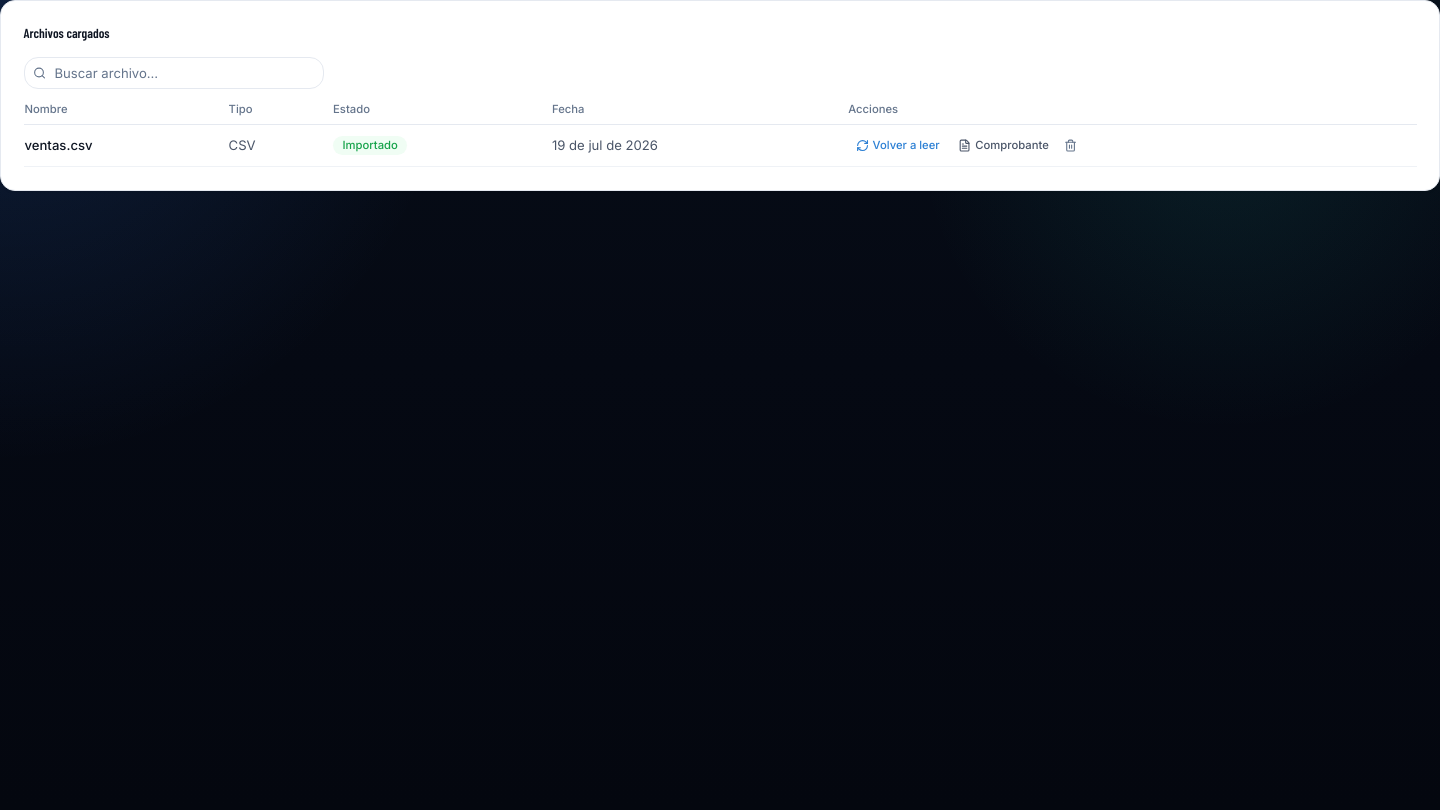
Test: FileListSection — deshacer relectura (F9b) › respuesta con not_reverted_entities no vacío renderiza el aviso
Click the button titled "Volver a leer este archivo".
click(898, 146)  # box [848,134,947,157]
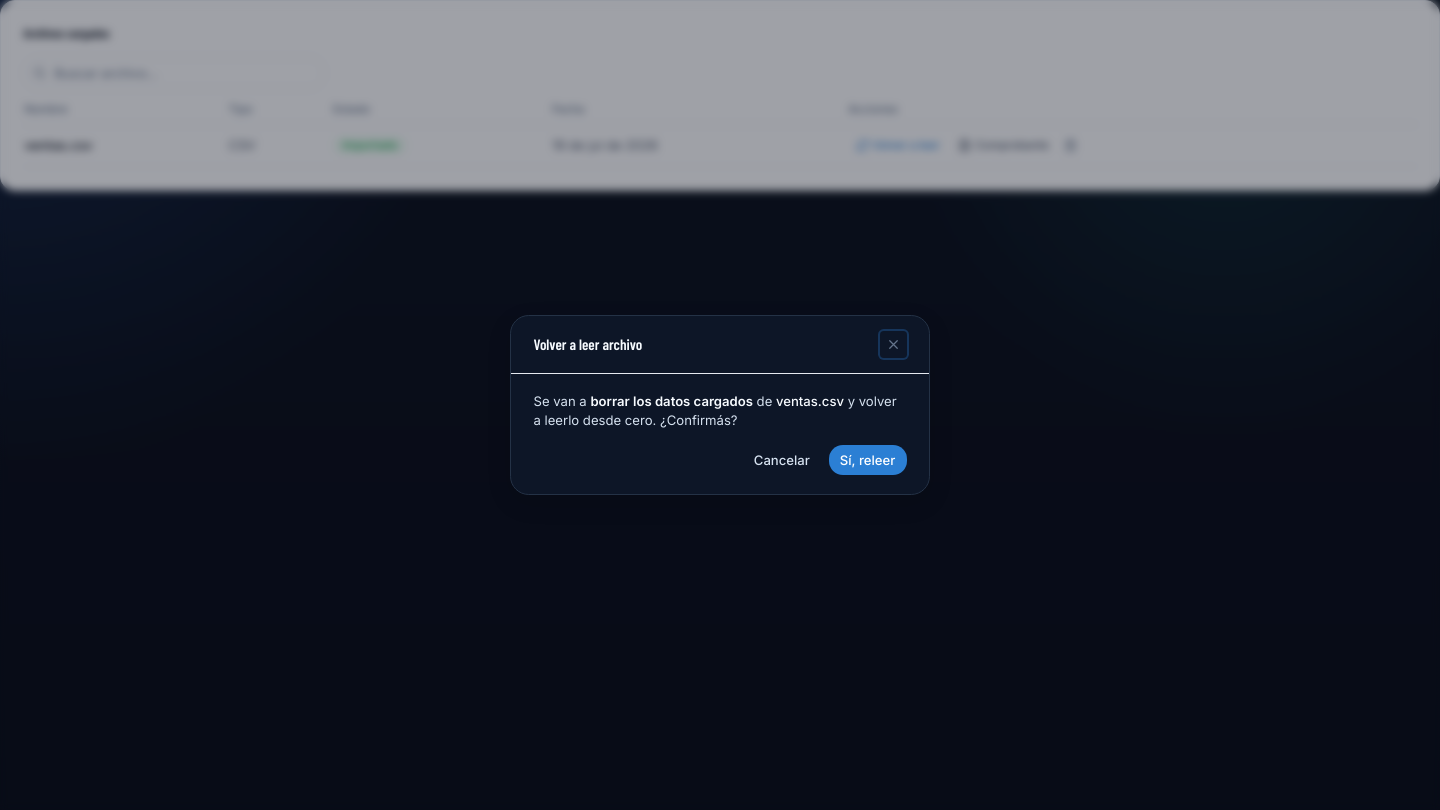
Expected: the button "Sí, releer" is shown
Click the button "Sí, releer".
click(868, 460)  # box [829,445,906,475]
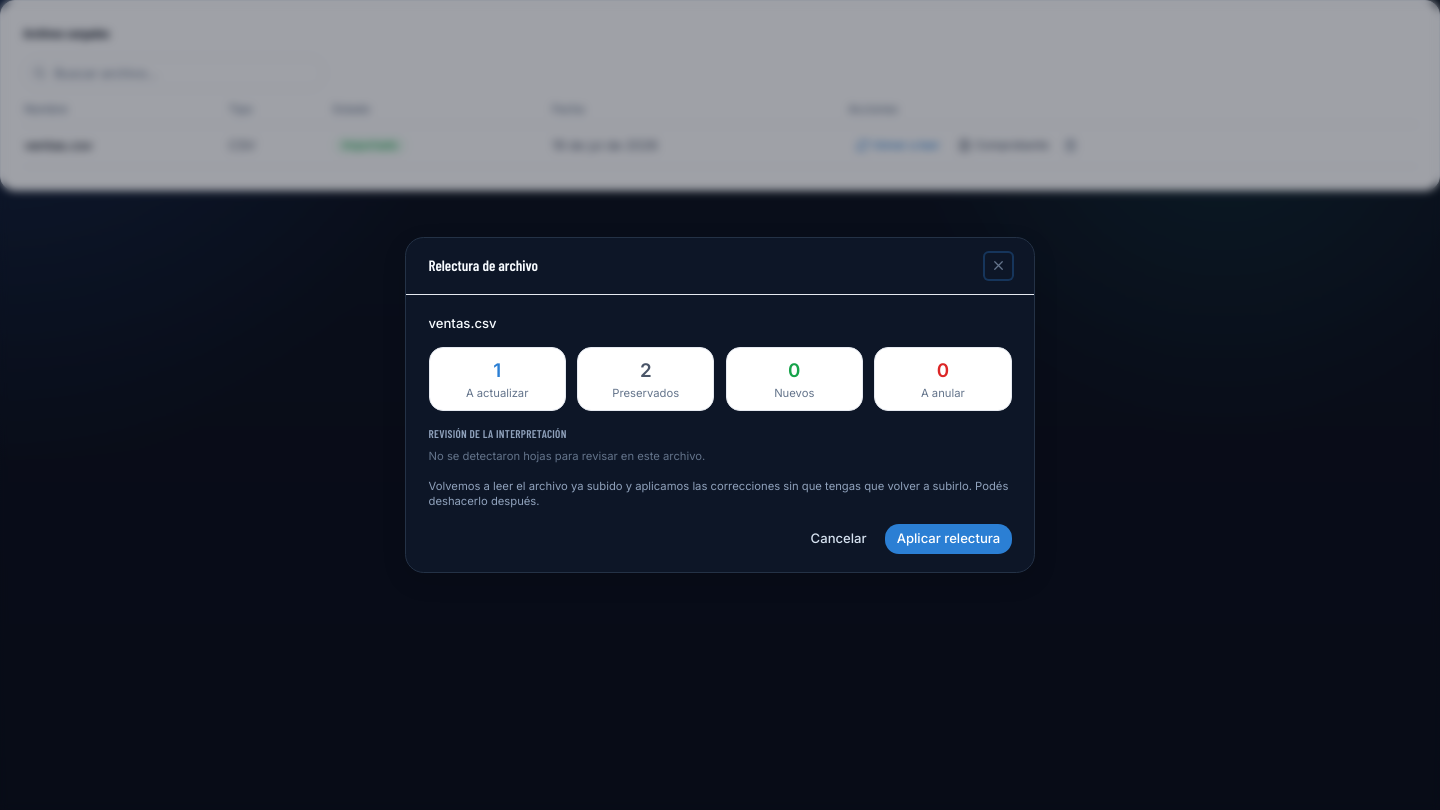
Expected: the button "Aplicar relectura" is shown
Click the button "Aplicar relectura".
click(948, 539)  # box [885,524,1012,554]
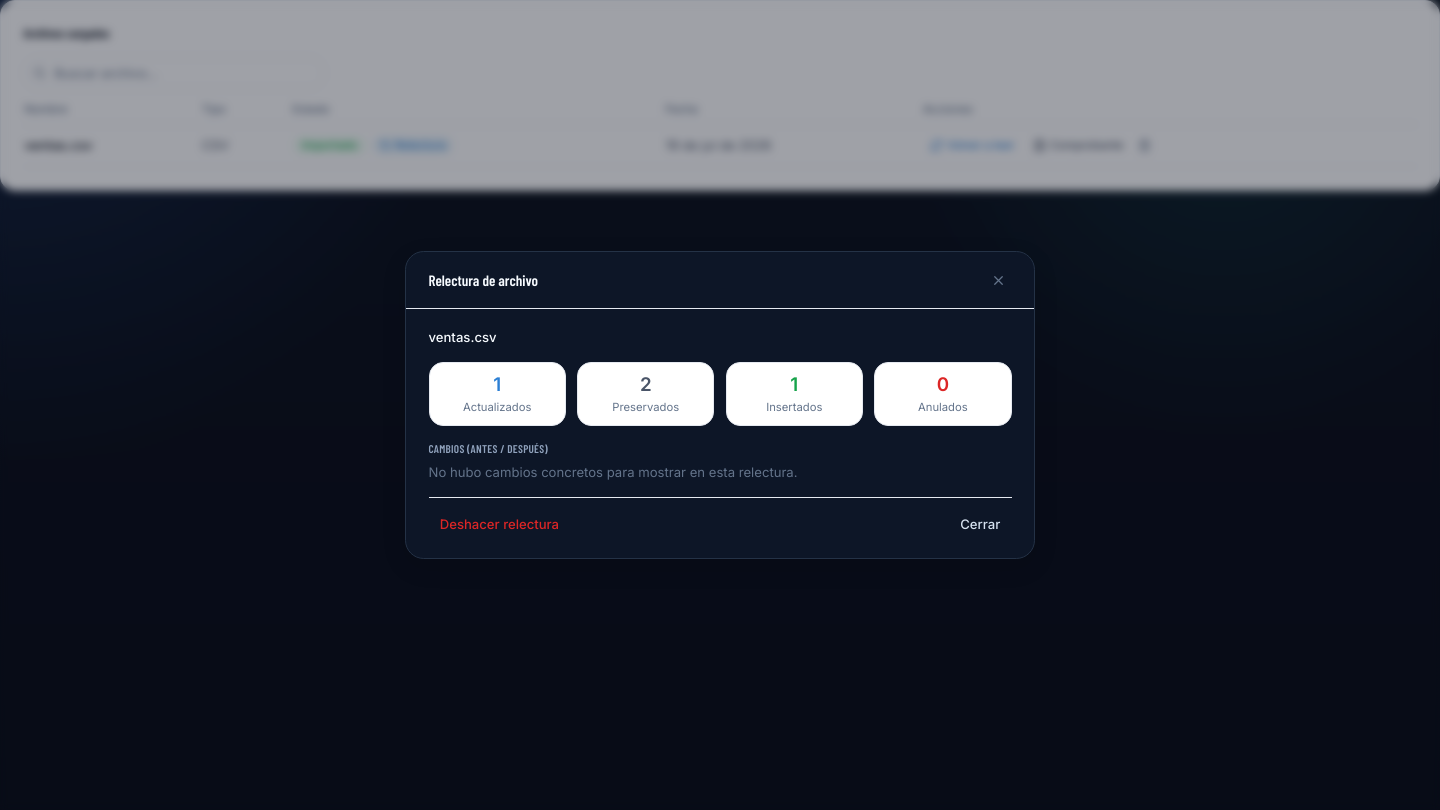
Expected: the button "Deshacer relectura" is shown
Click the button "Deshacer relectura".
click(499, 524)  # box [428,509,570,539]
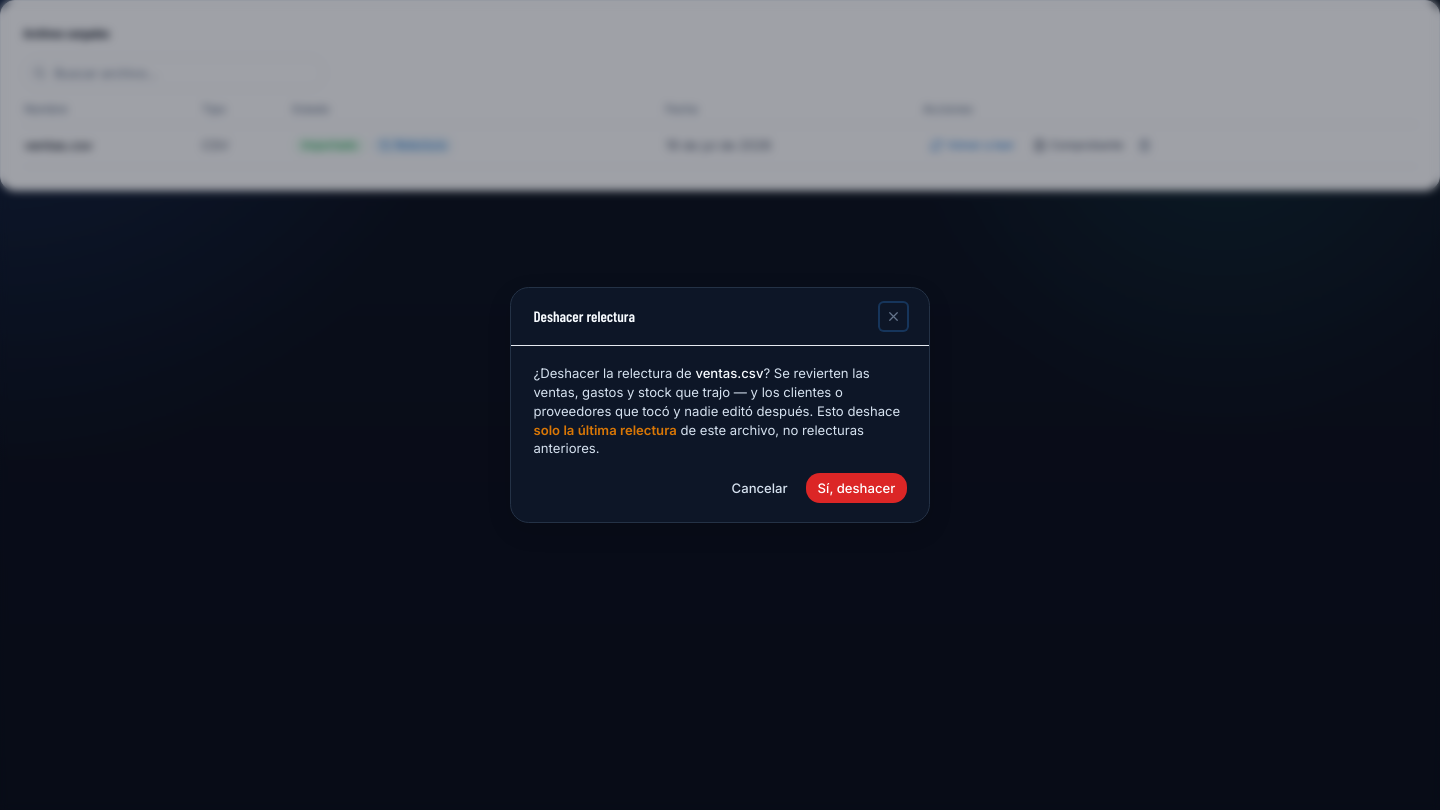
Expected: the heading "Deshacer relectura" is shown, [534,305,635,328]
Click the button "Sí, deshacer".
click(856, 488)  # box [806,473,906,503]
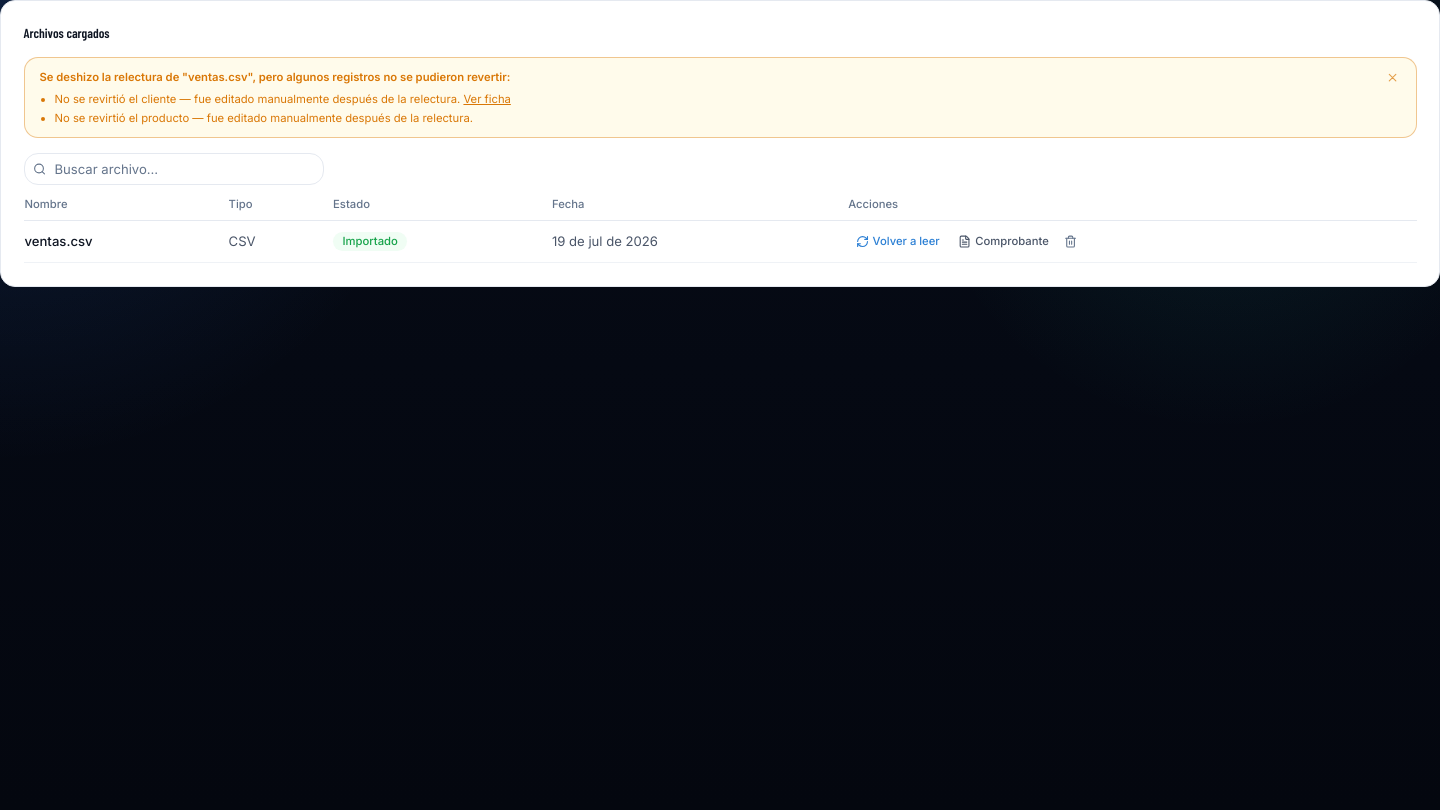
Expected: the list item "No se revirtió el cliente" is shown, [54,92,511,106]
Expected: the list item "No se revirtió el producto" is shown, [54,111,473,125]
Expected: the number of links "Ver ficha" is 1, [463,92,511,106]
